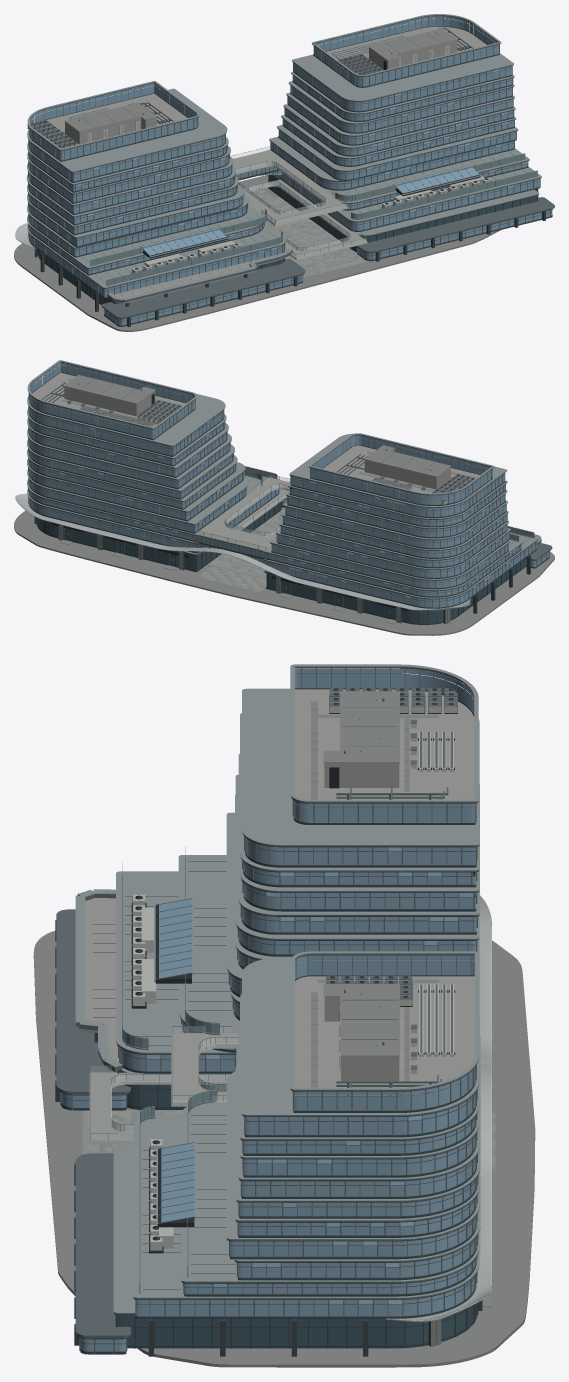
Rendered from zijin-kechuang-v4.glb.
3 renders of one model, top to bottom at view 1: azimuth 30°, elevation 25°; view 2: azimuth 150°, elevation 25°; view 3: azimuth 270°, elevation 25°, orthographic. The views are drawn at different scales.
Parts seen in each view (by area): view 1: C_Foundation__stone, B_L11_FloorBands__edge, B_L12_Glazing__glass0, A_RearPodium_Canopy__metal, A_L12_Glazing__glass0, A_L11_FloorBands__edge, V4_庭院灰石错缝铺装, V4_L3_连续圆角天井连廊_含前部露台, B_RearPodium_Canopy__metal, B_L02_Glazing__glass0, B_L11_Glazing__glass0, A_L02_Glazing__glass0 (+95 smaller); view 2: C_Foundation__stone, A_L12_Glazing__glass0, B_L12_Glazing__glass0, A_L01_Glazing__glass0, V4_L3_连续圆角天井连廊_含前部露台, B_L01_Glazing__glass0, A_L02_Glazing__glass0, B_L11_FloorBands__edge, A_L11_Glazing__glass0, A_L04_Glazing__glass0, A_L05_Glazing__glass0, B_L11_Glazing__glass0 (+97 smaller); view 3: C_Foundation__stone, A_L11_FloorBands__edge, A_RoofDeck__roof, B_RoofDeck__roof, B_L11_FloorBands__edge, B_L03_FloorBands__edge, B_L01_Glazing__glass0, B_RearPodium_Canopy__metal, A_L03_FloorBands__edge, A_L02_FloorBands__edge, B_L02_FloorBands__edge, A_L12_Glazing__glass0 (+73 smaller).
Boxes of the visible parts, x1,y1,x2,y2 form: C_Foundation__stone: [14, 175, 500, 331]; B_L11_FloorBands__edge: [292, 34, 513, 100]; B_L12_Glazing__glass0: [313, 16, 499, 86]; A_RearPodium_Canopy__metal: [101, 259, 305, 318]; A_L12_Glazing__glass0: [29, 83, 197, 160]; A_L11_FloorBands__edge: [27, 88, 227, 171]; V4_庭院灰石错缝铺装: [263, 198, 367, 276]; V4_L3_连续圆角天井连廊_含前部露台: [232, 150, 347, 226]; B_RearPodium_Canopy__metal: [357, 197, 554, 252]; B_L02_Glazing__glass0: [276, 173, 539, 230]; B_L11_Glazing__glass0: [293, 63, 511, 110]; A_L02_Glazing__glass0: [29, 234, 284, 295]; C_Foundation__stone: [14, 507, 554, 635]; A_L12_Glazing__glass0: [310, 435, 492, 504]; B_L12_Glazing__glass0: [30, 362, 195, 438]; A_L01_Glazing__glass0: [266, 559, 526, 623]; V4_L3_连续圆角天井连廊_含前部露台: [196, 478, 290, 551]; B_L01_Glazing__glass0: [36, 501, 281, 570]; A_L02_Glazing__glass0: [268, 542, 535, 607]; B_L11_FloorBands__edge: [27, 366, 225, 445]; A_L11_Glazing__glass0: [291, 473, 505, 516]; A_L04_Glazing__glass0: [272, 544, 508, 587]; A_L05_Glazing__glass0: [277, 532, 509, 577]; B_L11_Glazing__glass0: [29, 407, 223, 455]; C_Foundation__stone: [33, 931, 535, 1367]; A_L11_FloorBands__edge: [242, 688, 479, 845]; A_RoofDeck__roof: [294, 689, 474, 822]; B_RoofDeck__roof: [295, 976, 474, 1110]; B_L11_FloorBands__edge: [242, 957, 479, 1115]; B_L03_FloorBands__edge: [181, 1103, 479, 1281]; B_L01_Glazing__glass0: [117, 1305, 473, 1345]; B_RearPodium_Canopy__metal: [75, 1153, 130, 1337]; A_L03_FloorBands__edge: [178, 855, 239, 1033]; A_L02_FloorBands__edge: [116, 871, 235, 1053]; B_L02_FloorBands__edge: [133, 1115, 479, 1298]; A_L12_Glazing__glass0: [294, 669, 475, 822].
Bounding box in the file's own units: 82 × 24.03 × 39.38.
